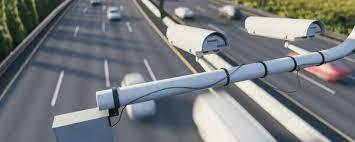tutu: (243, 12, 328, 45), (159, 19, 231, 57)
